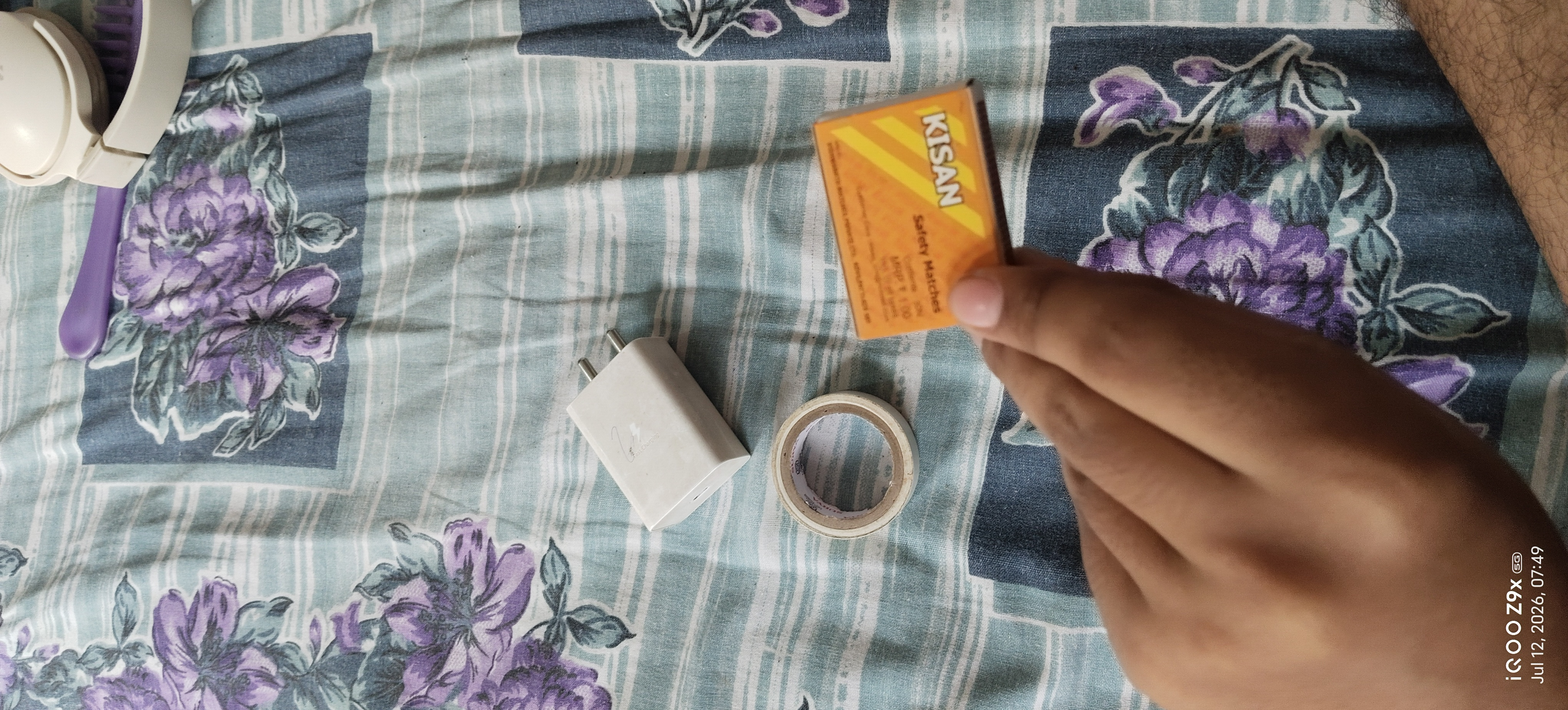charger: (541, 317, 760, 538)
matchbox: (791, 79, 1032, 351)
tape_roll: (763, 389, 936, 544)
